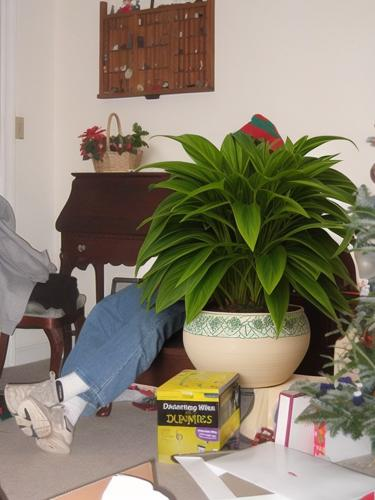person: (6, 114, 310, 454)
person/foot: (15, 396, 75, 453), (7, 378, 62, 418)
person/hand: (159, 204, 193, 238), (201, 209, 233, 244)
person/head: (223, 127, 273, 191)
pottedplant: (135, 135, 359, 388)
